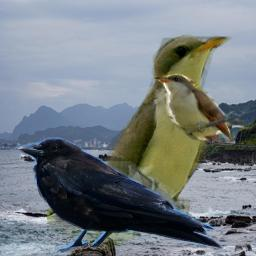Crow: (14, 137, 224, 254)
Cuckoo: (47, 30, 233, 249), (151, 67, 244, 144)
